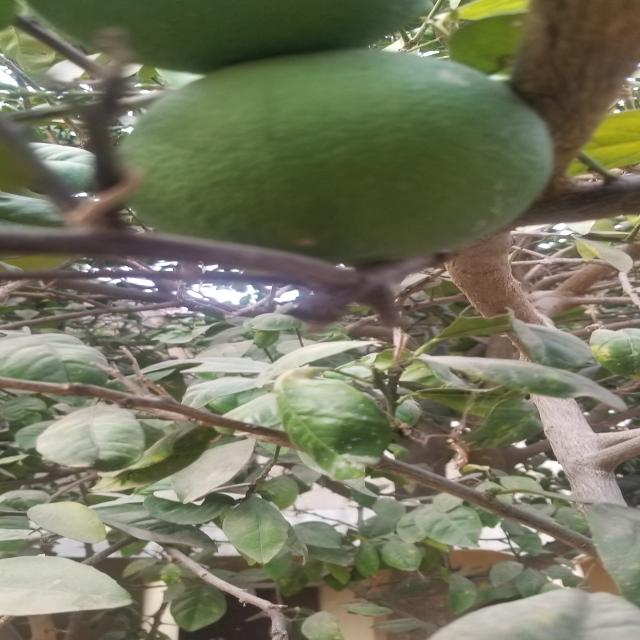Unripe: (121, 54, 548, 263), (26, 8, 474, 75)
